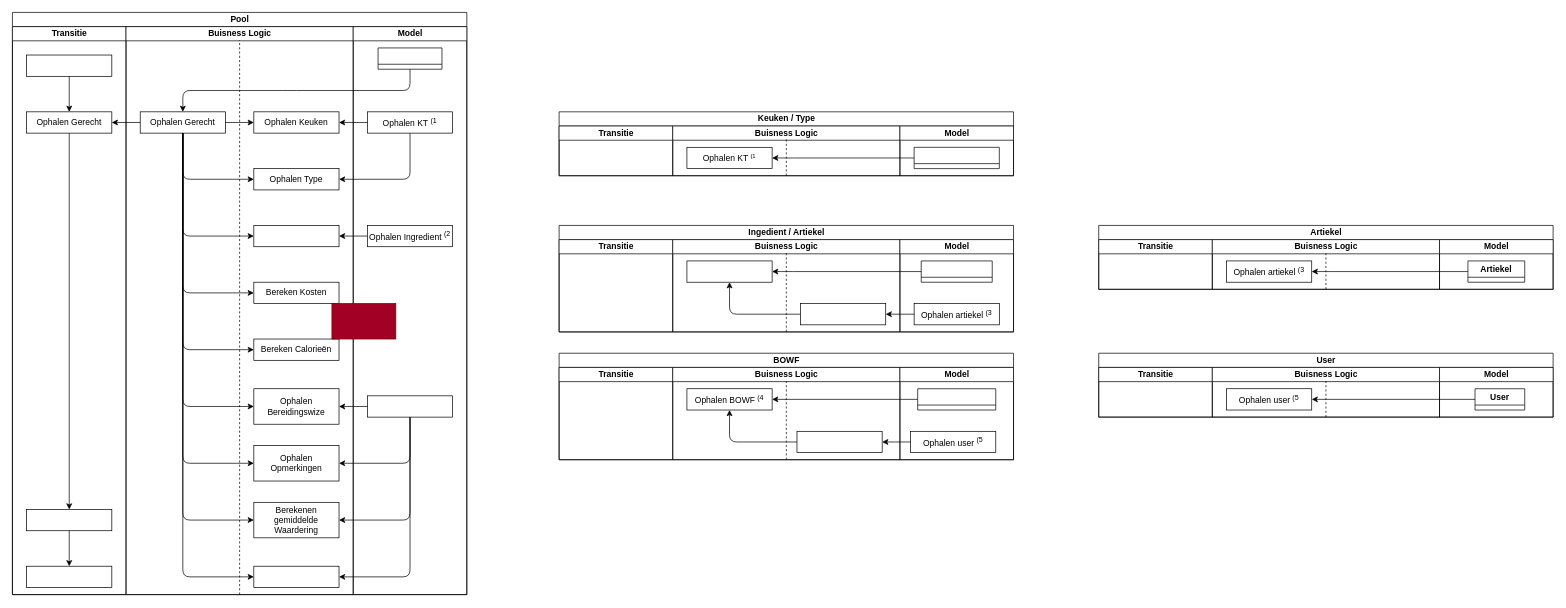
This 1566x608 diagram has some shape labels left out. The centre of each missing label's shape, as x and y in pixels:
End: [69,577]
Gerecht: [409,58]
Gerecht info: [956,399]
HTML: [69,520]
Ingredient: [956,271]
Is al opgehaald voor ophalen ingredienten: [363,321]
Keuken, Type: [956,158]
Ophalen artiekel: [843,314]
Ophalen BOWF 4): [410,406]
Ophalen favorieten: [296,577]
Ophalen ingedient (2: [729,271]
Ophalen Ingredient: [296,236]
Ophalen user: [839,442]
Start: [69,65]
